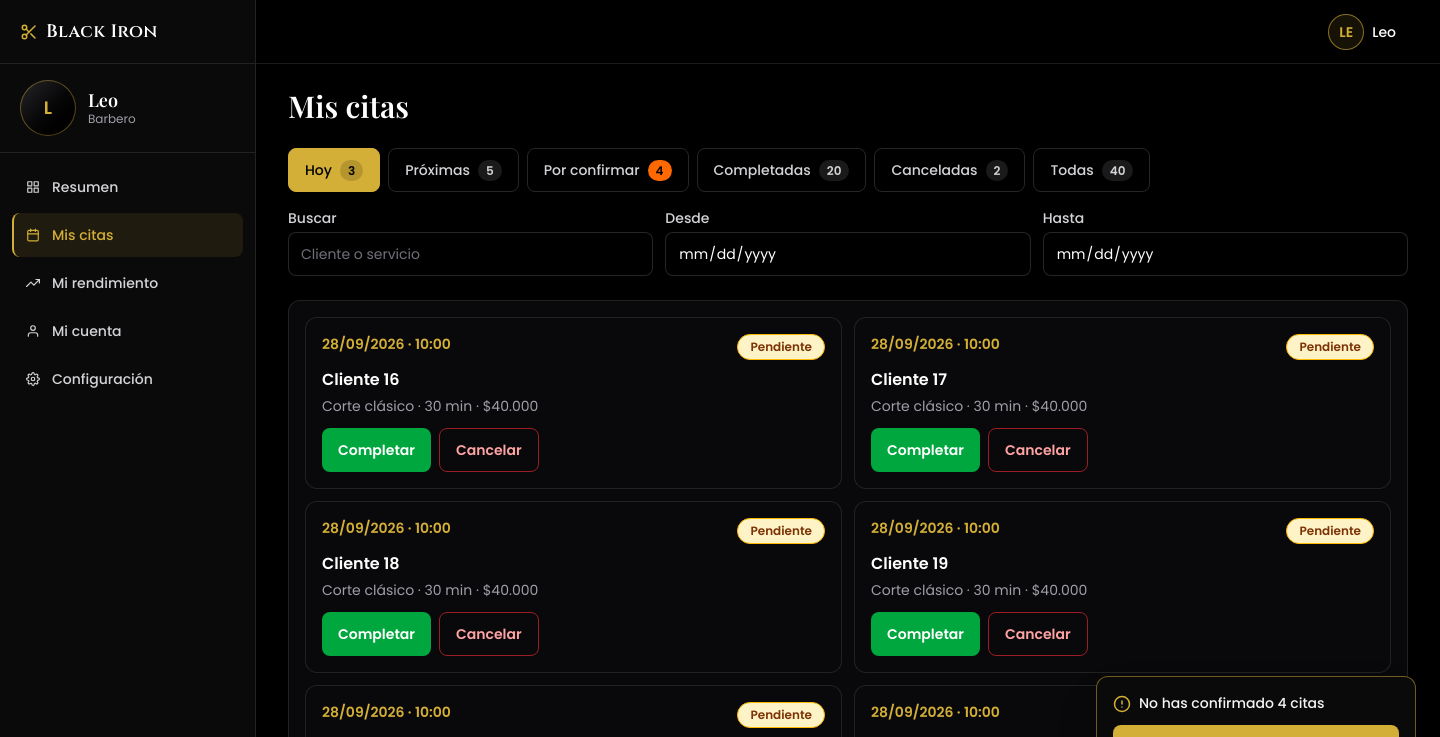
/panel/citas: estado en la URL › la búsqueda se aplica al dejar de escribir, reinicia la página y se puede limpiar
In the search field labelled "Buscar": (471, 254) [288,232,653,276], type "ana"
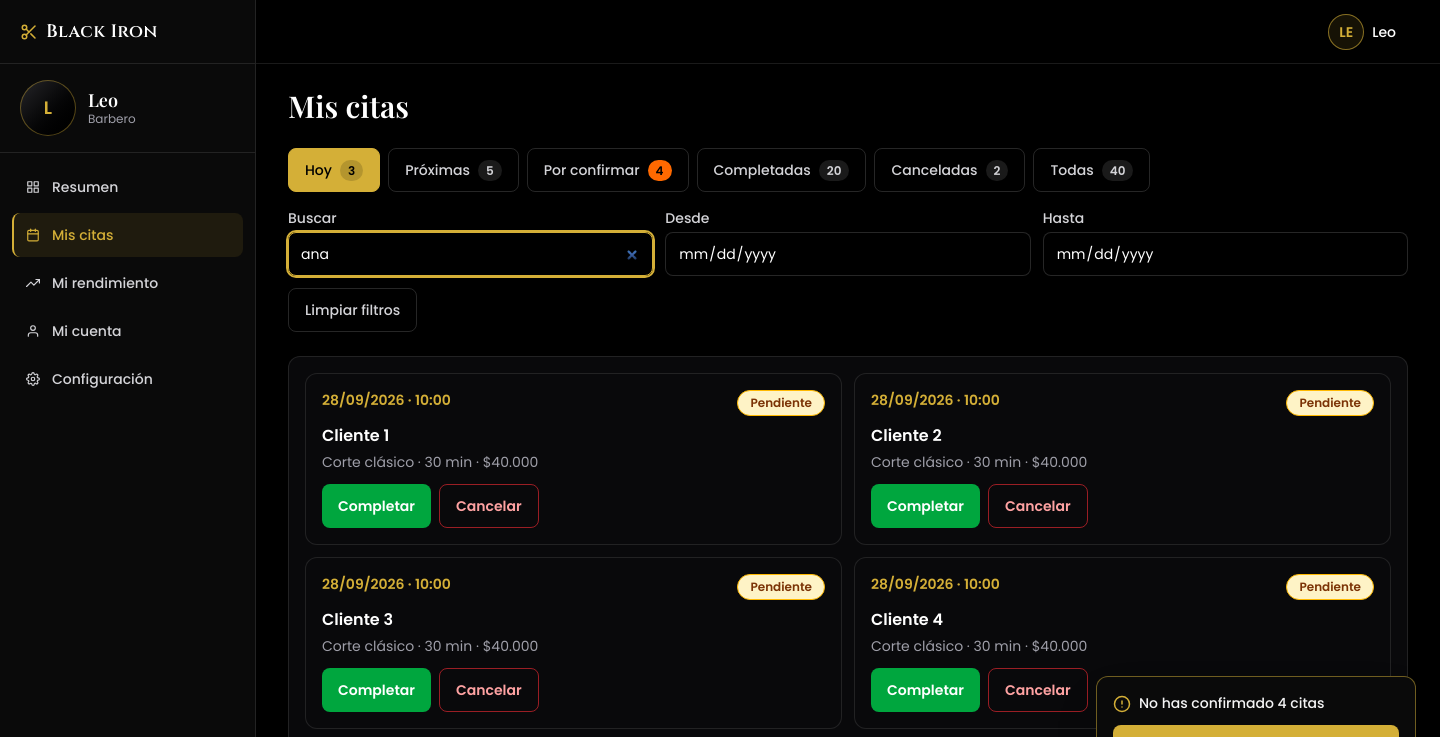
Click the button "Limpiar filtros": (353, 310) [288,288,417,332]
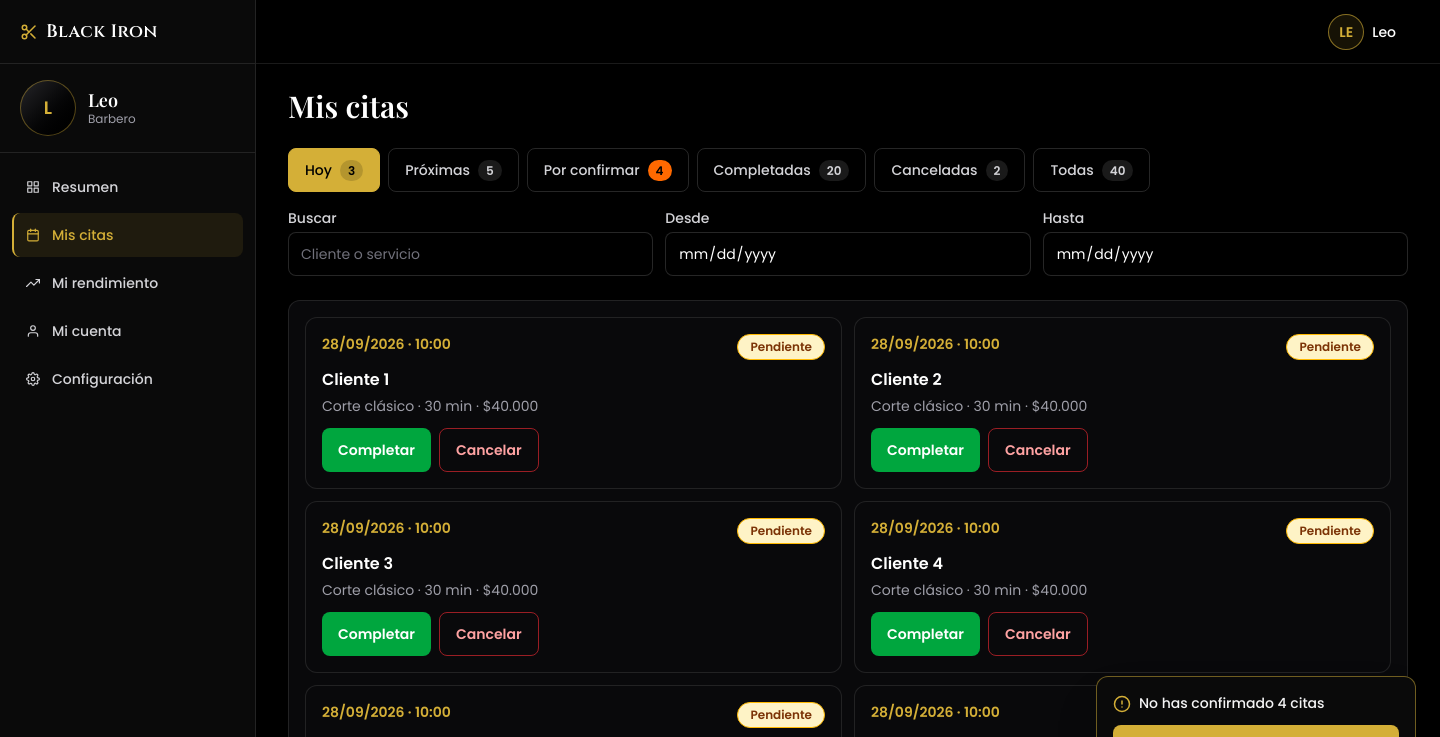
Now the search field labelled "Buscar" is empty, box [288,232,653,276]
